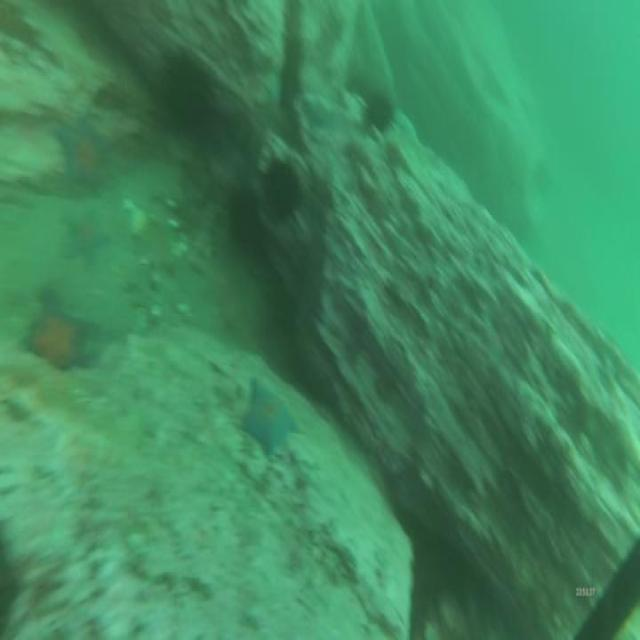echinus: (159, 48, 215, 140), (258, 148, 303, 228), (362, 88, 397, 136)
starfish: (20, 284, 94, 378), (50, 114, 116, 198), (239, 376, 301, 465), (58, 204, 111, 270)
